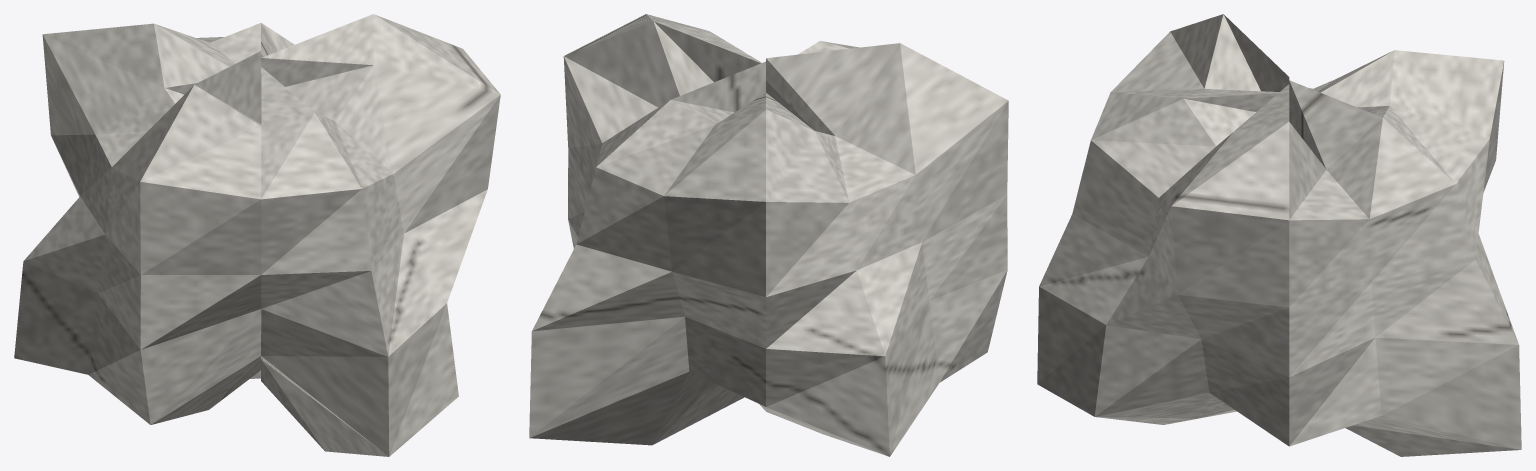
Rendered from rock1.obj.
The picture shows the model from 3 angles, left to right: view 1: azimuth 30°, elevation 25°; view 2: azimuth 150°, elevation 25°; view 3: azimuth 270°, elevation 25°; orthographic projection.
Bounding box in the file's own units: 1.93 × 1.78 × 2.13.
1 material, 1 textured.
